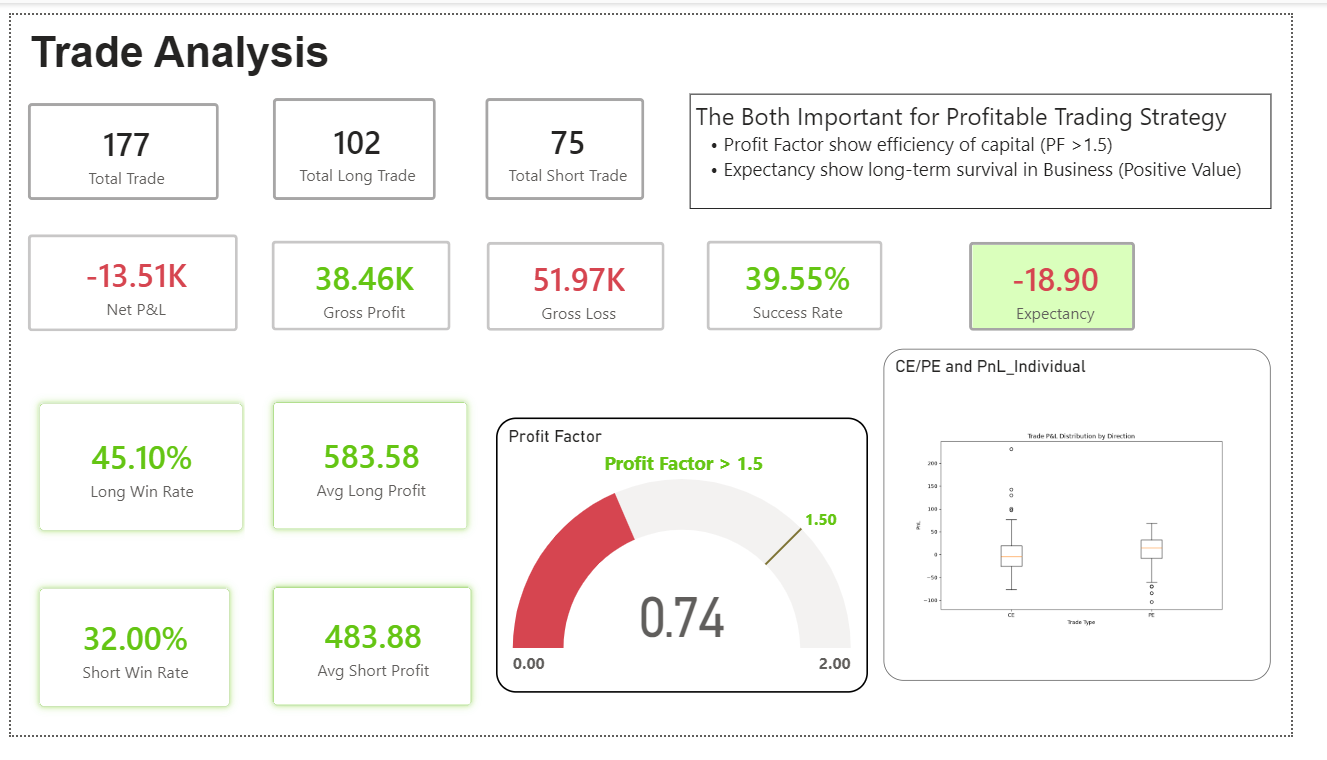

This screenshot's page, from the dashboard's own definition file:
{"tool":"powerbi","page":{"name":"Page 1","canvas":[1280,720],"ordinal":0},"visuals":[{"type":"cardVisual","fields":{"Data":["Fundamental.Net P&L"]},"box":[0,202.3,244.2,131.4],"z":0},{"type":"cardVisual","fields":{"Data":["Fundamental.Gross Profit"]},"box":[244.2,209.3,214,124.4],"z":1000},{"type":"cardVisual","fields":{"Data":["Fundamental.Gross Loss"]},"box":[458.1,210.5,212.8,123.3],"z":2000},{"type":"cardVisual","fields":{"Data":["Fundamental.Success Rate"]},"box":[679.1,209.3,210.5,124.4],"z":3000},{"type":"cardVisual","fields":{"Data":["Fundamental.Long Win Rate"]},"box":[0,360.5,260.5,184.2],"z":4000},{"type":"cardVisual","fields":{"Data":["Fundamental.Short Win Rate"]},"box":[0,544.7,247.4,175],"z":5000},{"type":"cardVisual","fields":{"Data":["Fundamental.Avg Long Profit"]},"box":[234.2,359.2,251.3,184.2],"z":6000},{"type":"cardVisual","fields":{"Data":["Fundamental.Avg Short Profit"]},"box":[234.2,543.4,255.3,175],"z":7000},{"type":"gauge","fields":{"Y":["Fundamental.Profit Factor"]},"box":[484.9,402.3,372.1,275.6],"z":8000},{"type":"cardVisual","fields":{"Data":["Fundamental.Total Trade"]},"box":[0,71.1,225,131.6],"z":9000},{"type":"cardVisual","fields":{"Data":["Fundamental.Total Long Trade"]},"box":[244.7,65.8,197.4,136.8],"z":10000},{"type":"cardVisual","fields":{"Data":["Fundamental.Total  Short Trade"]},"box":[457.9,65.8,193.4,136.8],"z":11000},{"type":"cardVisual","fields":{"Data":["Fundamental.Expectancy"]},"box":[941.9,210.5,200,123.3],"z":12000},{"type":"textbox","box":[13.8,7.5,541.2,58.8],"z":13000},{"type":"textbox","box":[678.8,78.8,581.2,115],"z":14000},{"type":"pythonVisual","fields":{"Values":["Trade_Data.CE/PE","Trade_Data.PnL_Individual"]},"box":[872.6,333.3,386.9,332.1],"z":15000}]}

Visuals, with their boxes in screenshot pixels (x1, y1, x2, y2), scaled from the page's 1280x720 canvas onto the 1327x760 screenshot:
cardVisual - Fundamental.Net P&L: 0 214 253 352
cardVisual - Fundamental.Gross Profit: 253 221 475 352
cardVisual - Fundamental.Gross Loss: 475 222 696 352
cardVisual - Fundamental.Success Rate: 704 221 922 352
cardVisual - Fundamental.Long Win Rate: 0 381 270 575
cardVisual - Fundamental.Short Win Rate: 0 575 256 759
cardVisual - Fundamental.Avg Long Profit: 243 379 503 574
cardVisual - Fundamental.Avg Short Profit: 243 574 507 758
gauge - Fundamental.Profit Factor: 503 425 888 716
cardVisual - Fundamental.Total Trade: 0 75 233 214
cardVisual - Fundamental.Total Long Trade: 254 69 458 214
cardVisual - Fundamental.Total  Short Trade: 475 69 675 214
cardVisual - Fundamental.Expectancy: 976 222 1184 352
textbox: 14 8 575 70
textbox: 704 83 1306 205
pythonVisual - Trade_Data.CE/PE x Trade_Data.PnL_Individual: 905 352 1306 702
